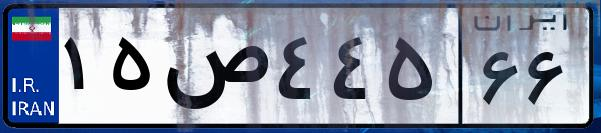1: (57, 26, 110, 100)
4: (270, 28, 330, 110), (330, 28, 385, 110)
5: (385, 28, 445, 110), (110, 28, 158, 98)
6: (475, 38, 525, 113), (525, 38, 570, 115)
ص: (158, 20, 270, 120)
